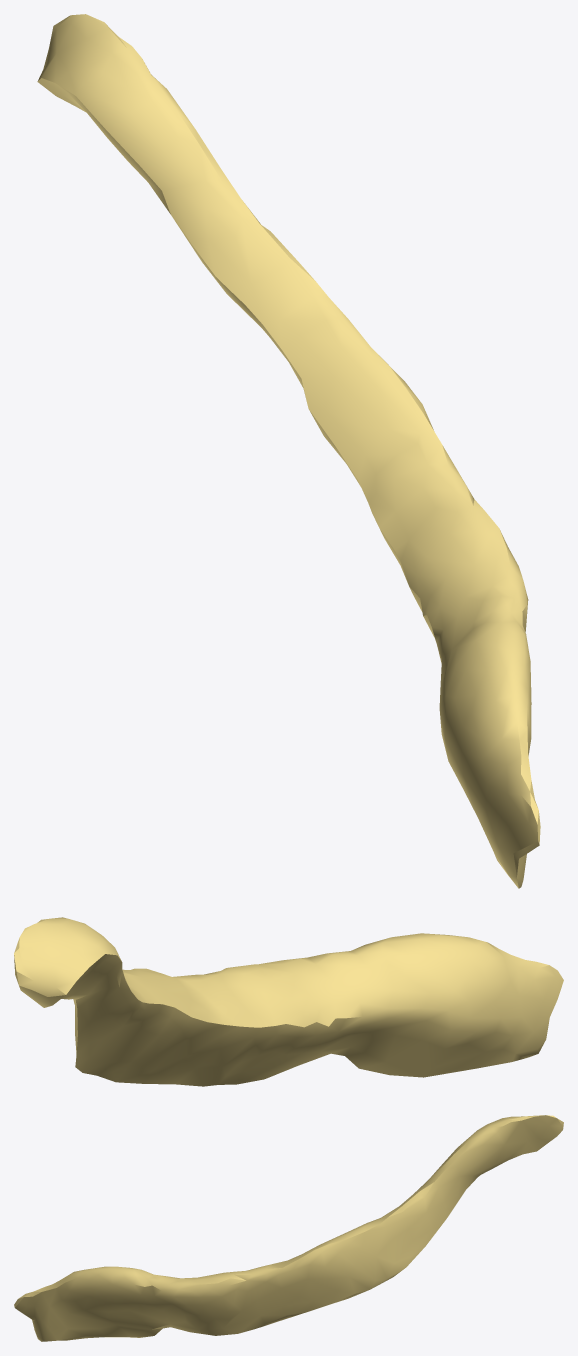
The model's file is fma72737_mm270.glb.
3 renders of one model, top to bottom at view 1: azimuth 30°, elevation 25°; view 2: azimuth 150°, elevation 25°; view 3: azimuth 270°, elevation 25°, orthographic. The views are drawn at different scales.
Parts seen in each view (by area): view 1: FMA72737_MM270; view 2: FMA72737_MM270; view 3: FMA72737_MM270.
Part boxes in pixels (box(x1,y1,x2,y2)): FMA72737_MM270: box(37, 14, 540, 888); FMA72737_MM270: box(14, 917, 563, 1086); FMA72737_MM270: box(14, 1115, 563, 1341).
Size of the model in its own units: 0.0063 by 0.0158 by 0.0324.
